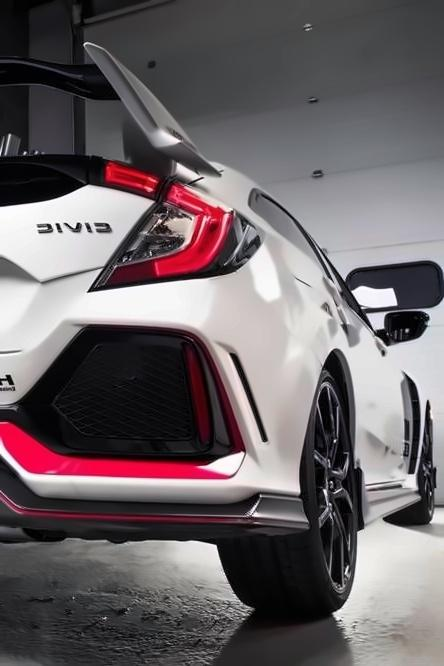Driver-s door - -F-R-: (326, 182, 425, 534)
Rear bumper: (0, 240, 305, 552)
Rear light - -R-: (86, 175, 263, 298)
Side bumper - -R-: (352, 467, 425, 546)
Side mirror - -R-: (379, 305, 432, 351)
